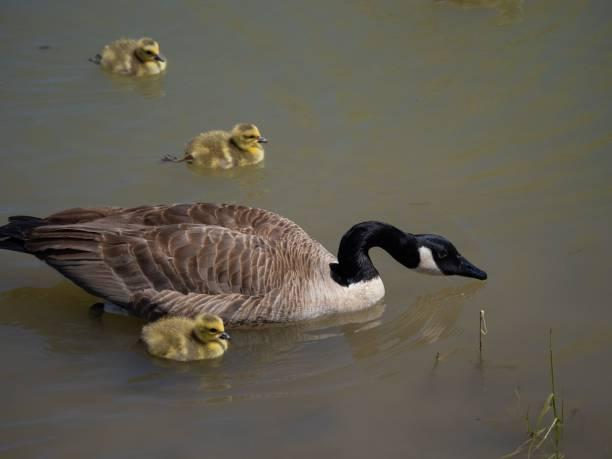Canadian-Goose: (2, 196, 487, 318), (136, 305, 231, 365), (165, 121, 273, 171), (93, 32, 166, 82)
